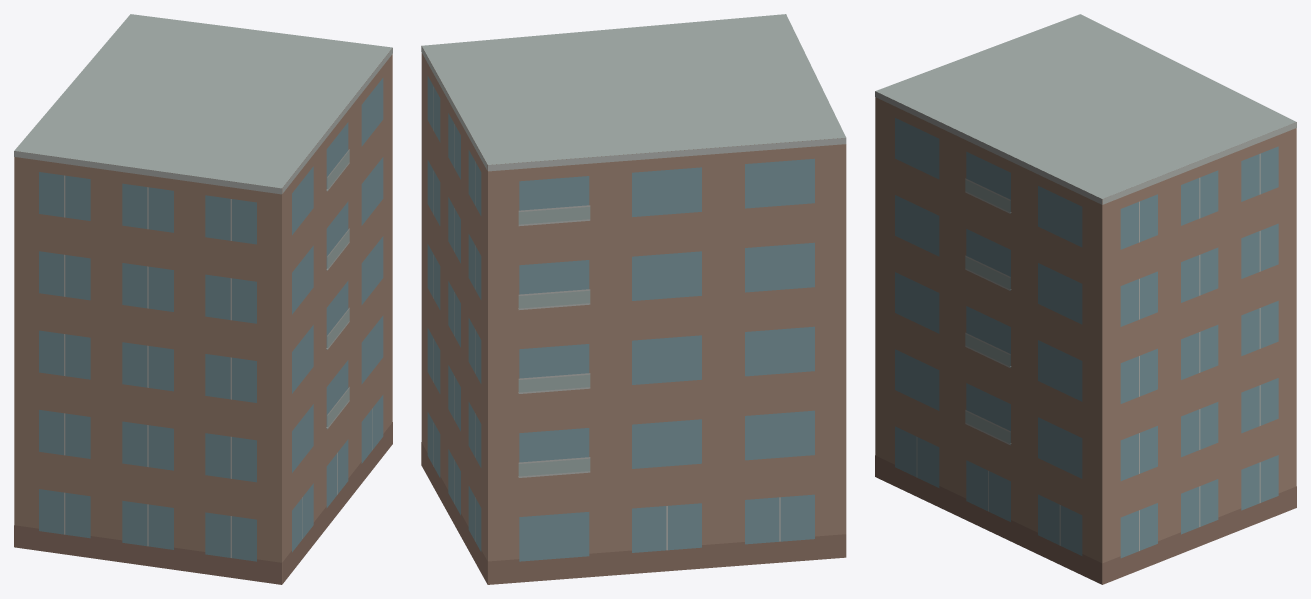
File: survey-upis-32638116.glb
3 views of the same model, side by side, from view 1: azimuth 30°, elevation 25°; view 2: azimuth 150°, elevation 25°; view 3: azimuth 270°, elevation 25° (orthographic). The views are drawn at different scales.
Visible parts, largest first — view 1: survey-upis-32638116.tmp; view 2: survey-upis-32638116.tmp; view 3: survey-upis-32638116.tmp.
Part boxes in pixels (box(x1,y1,x2,y2)): survey-upis-32638116.tmp: box(14, 14, 392, 584); survey-upis-32638116.tmp: box(421, 14, 846, 584); survey-upis-32638116.tmp: box(875, 14, 1296, 584).
Size of the model in its own units: 16.53 by 16.05 by 15.9.
